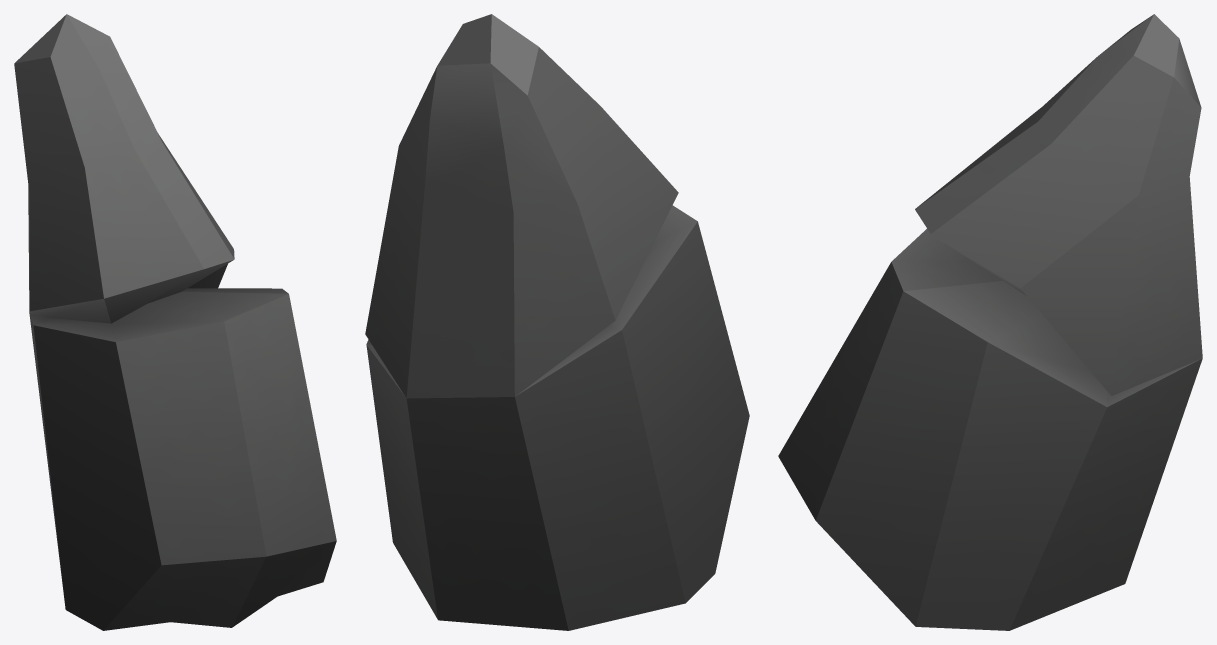
The model's file is rocher21_01.FBX.
The picture shows the model from 3 angles, left to right: view 1: azimuth 30°, elevation 25°; view 2: azimuth 150°, elevation 25°; view 3: azimuth 270°, elevation 25°; orthographic projection. The views are drawn at different scales.
Visible parts, largest first — view 1: rocher21_LOD00; view 2: rocher21_LOD00; view 3: rocher21_LOD00.
Part boxes in pixels (x1,y1,x2,y2): rocher21_LOD00: [14, 14, 336, 630]; rocher21_LOD00: [365, 14, 749, 630]; rocher21_LOD00: [778, 14, 1202, 630].
Size of what is drawn, in the model's own units: 1.41 by 3.05 by 2.17.
